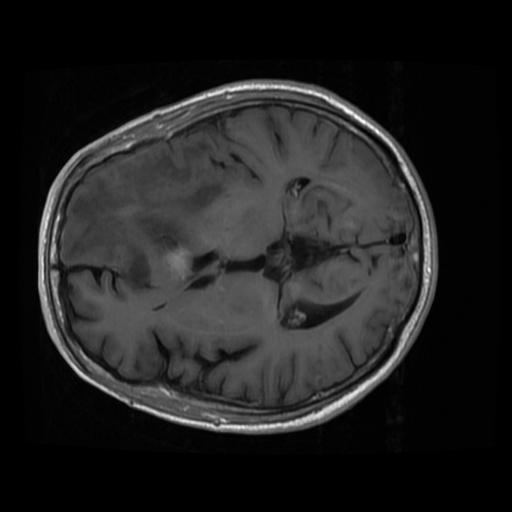glioma: (63, 140, 242, 294)
